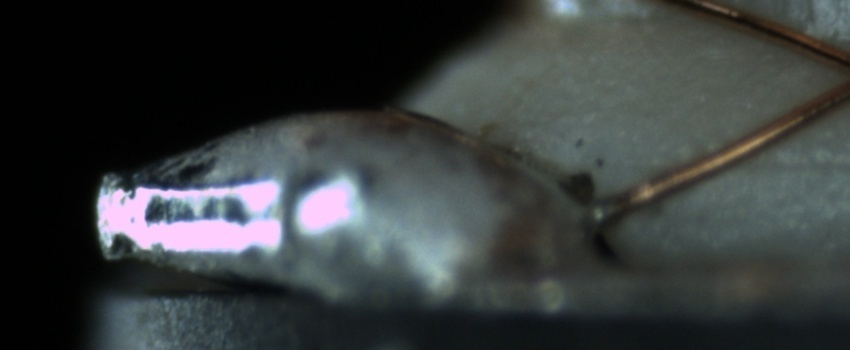DL: (730, 133, 850, 195)
